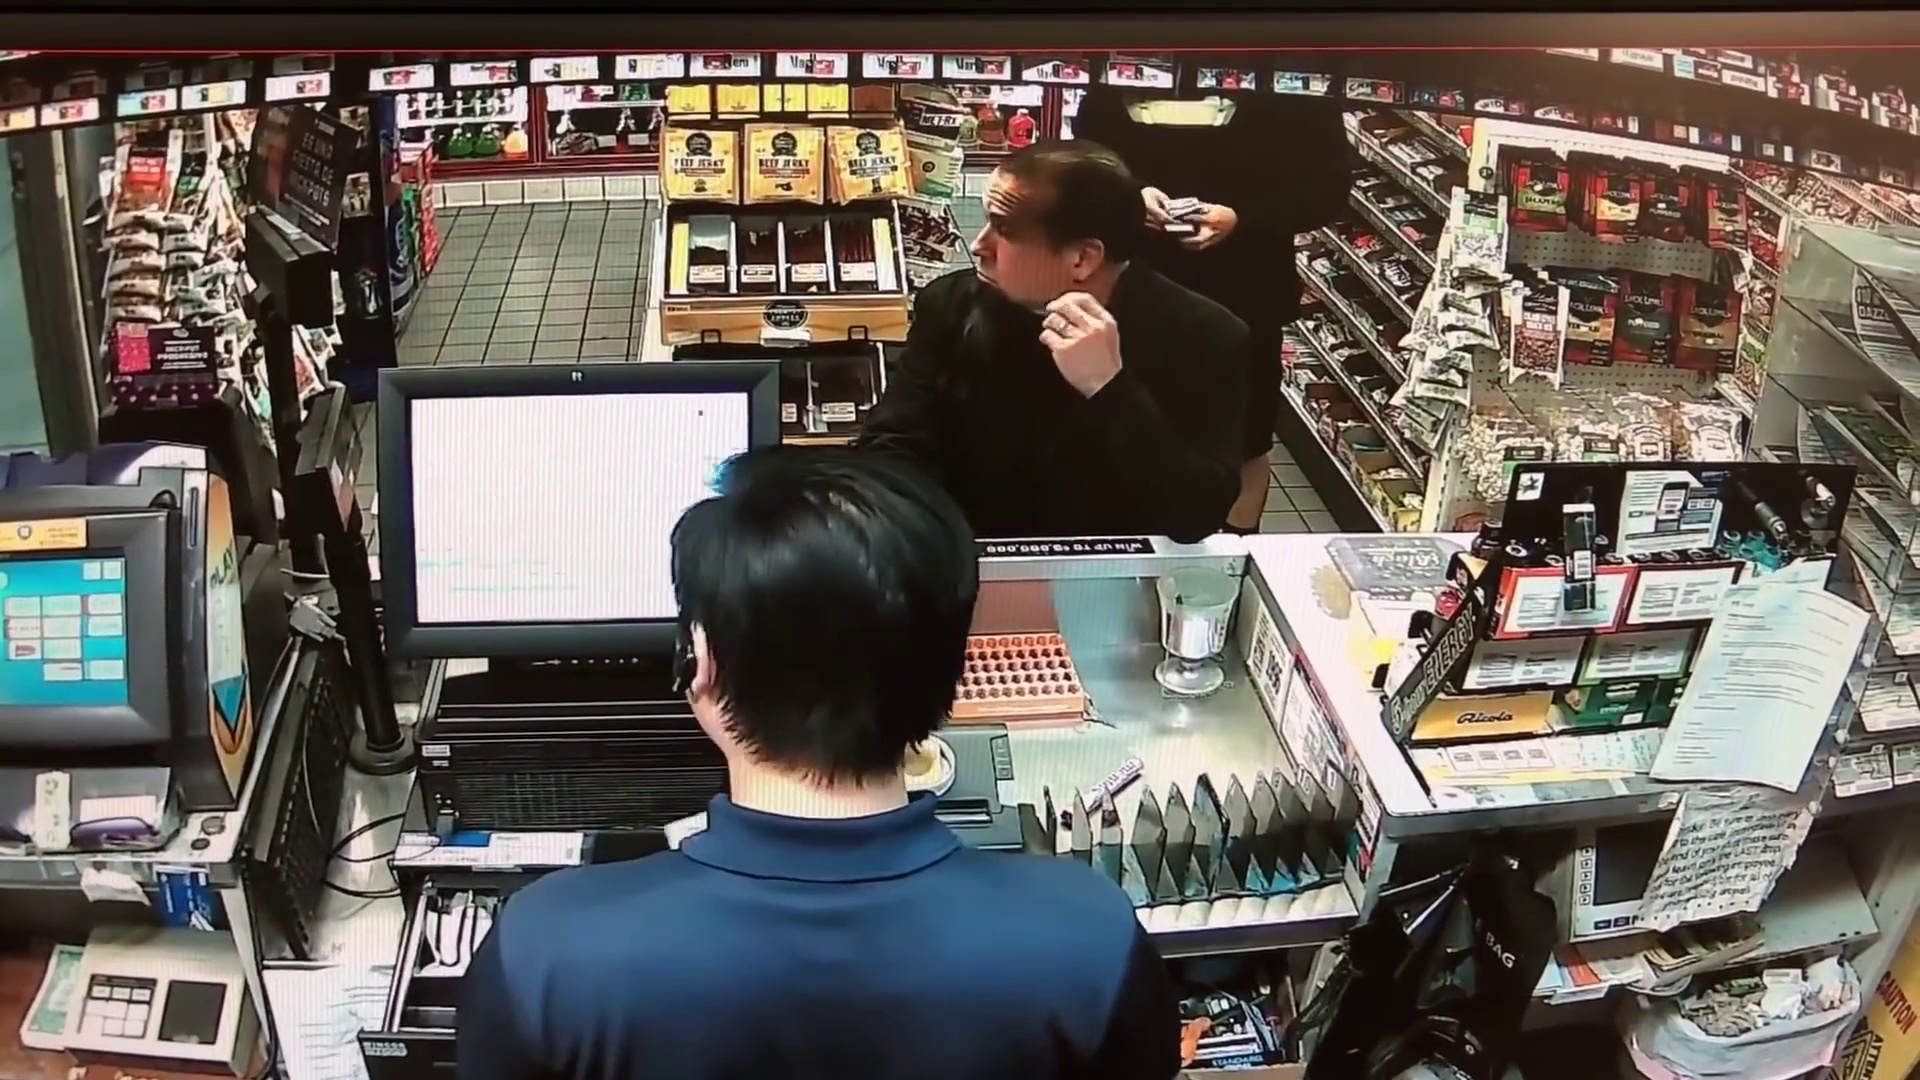face: (965, 182, 1075, 301)
